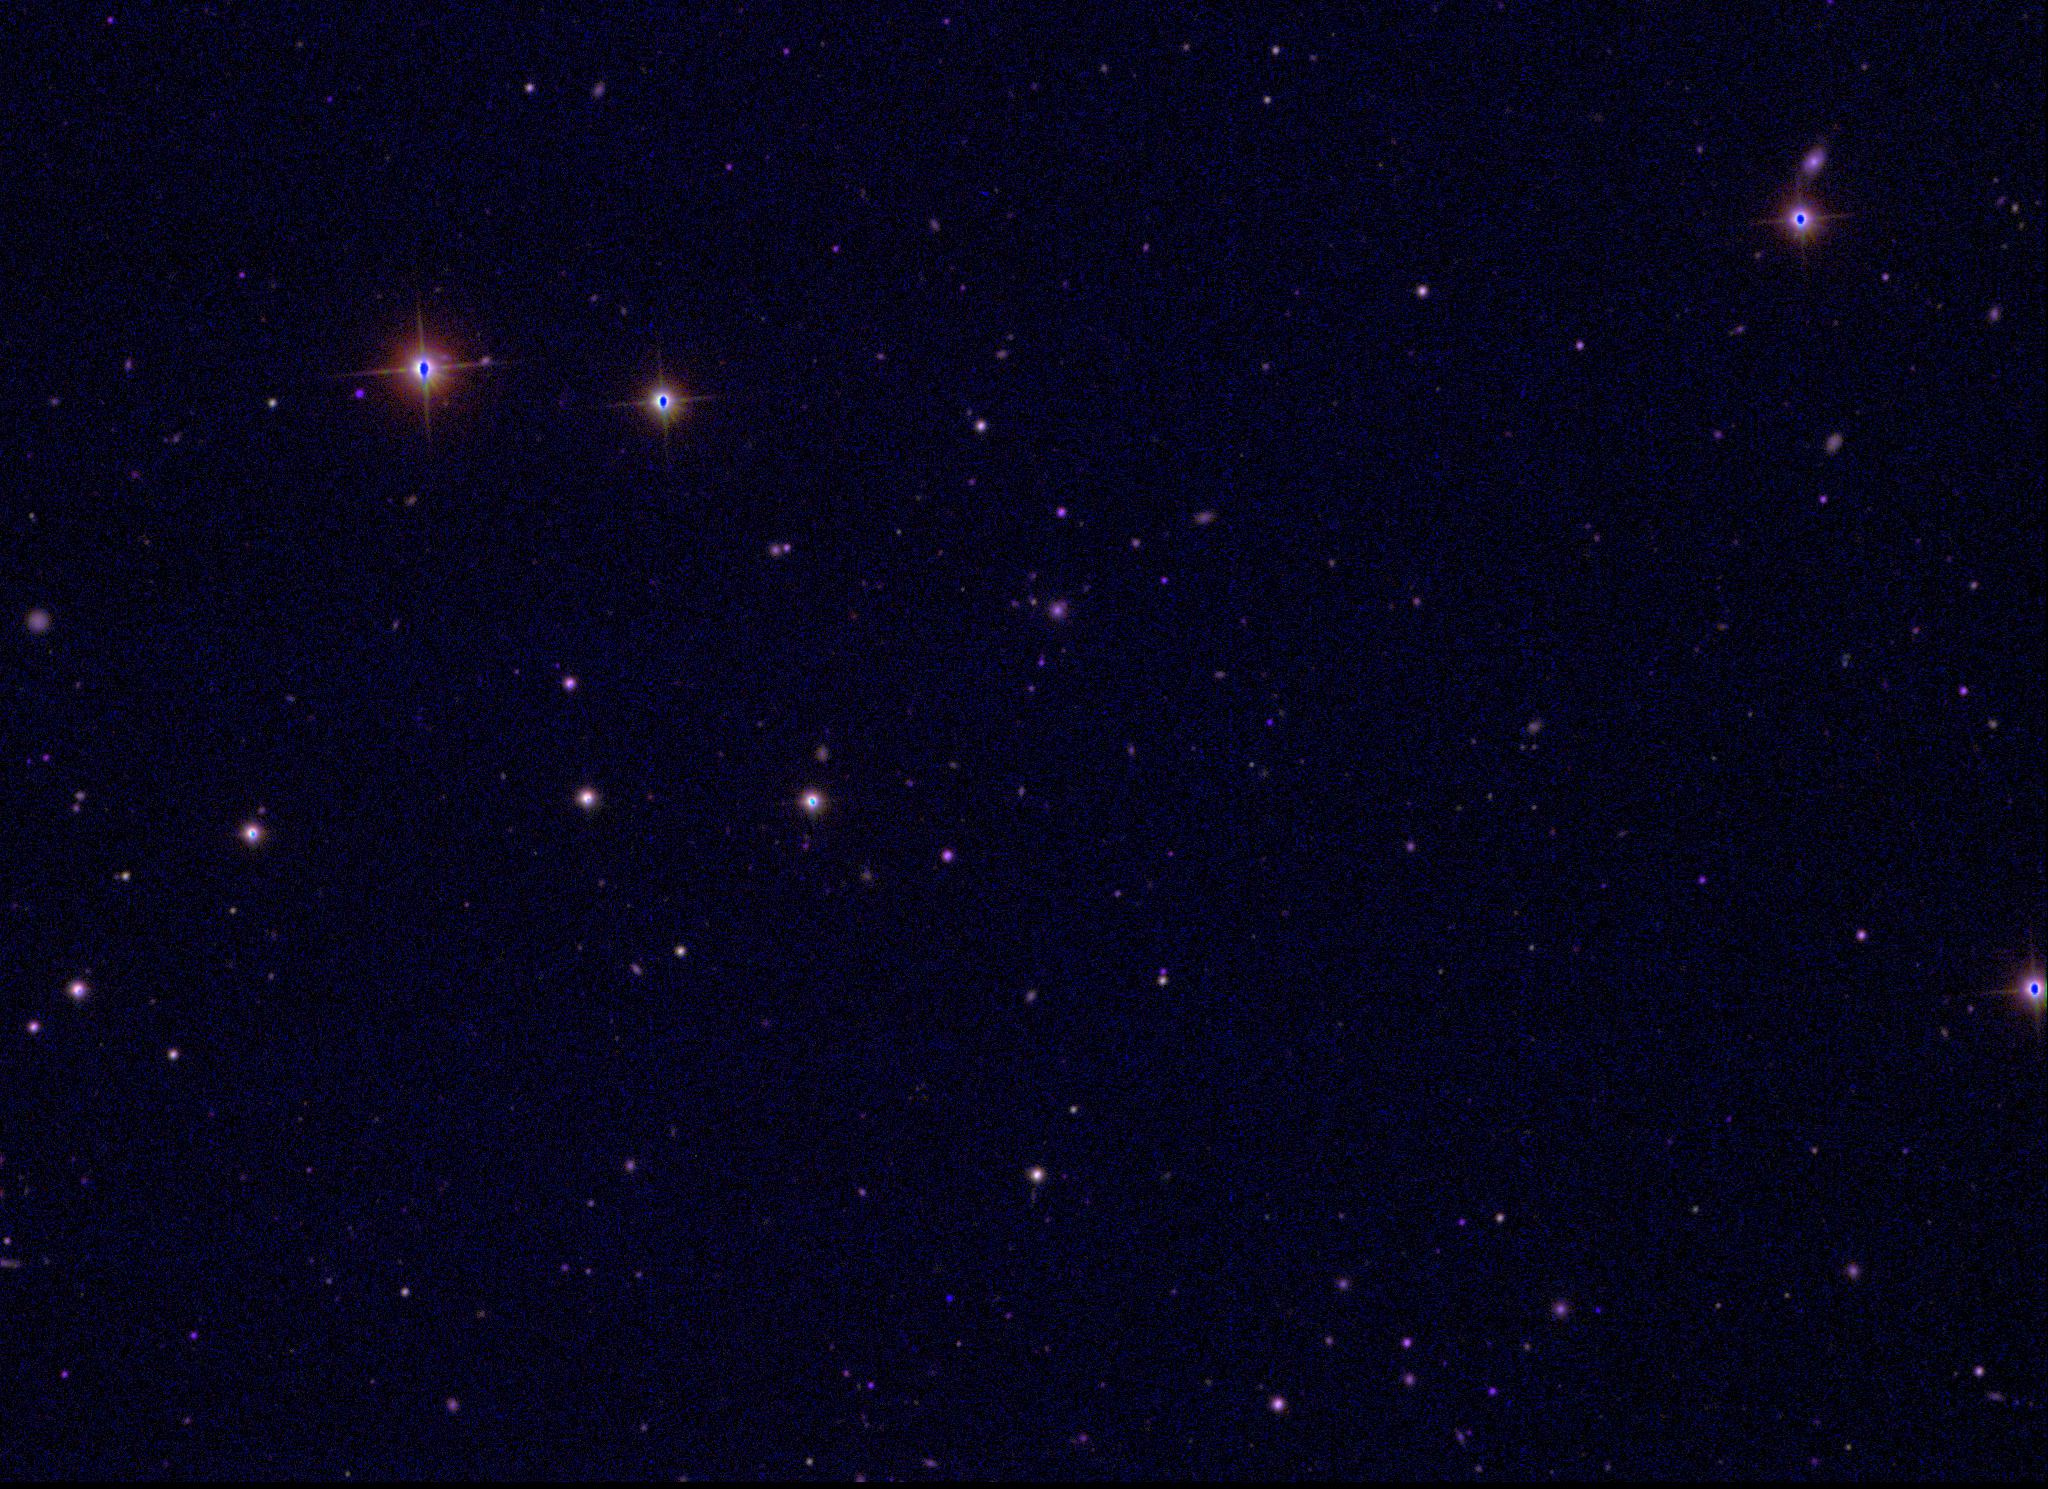L: (943, 1292, 957, 1304)
